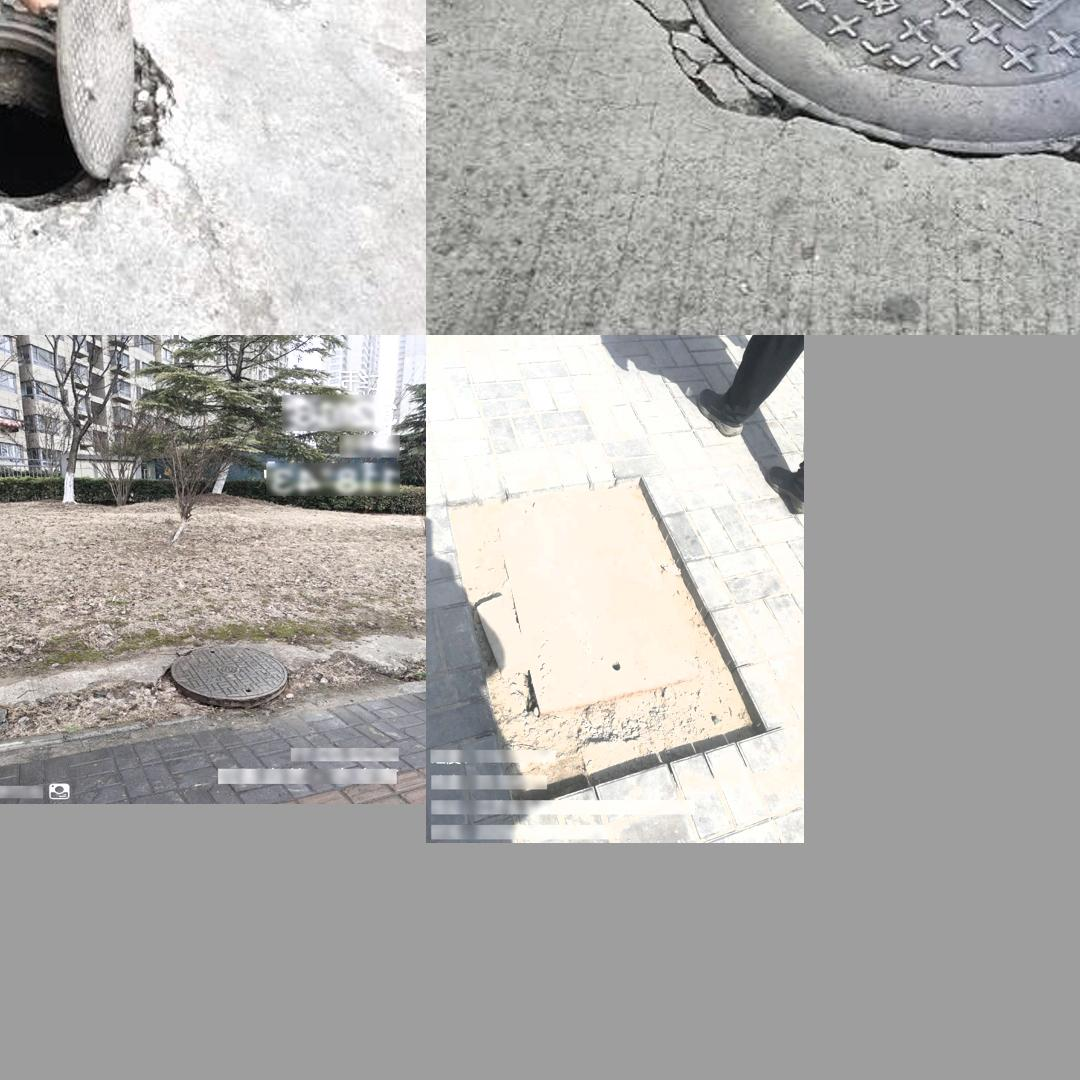circle: (565, 0, 1080, 195), (446, 489, 762, 764), (0, 0, 198, 237), (164, 643, 290, 706)
